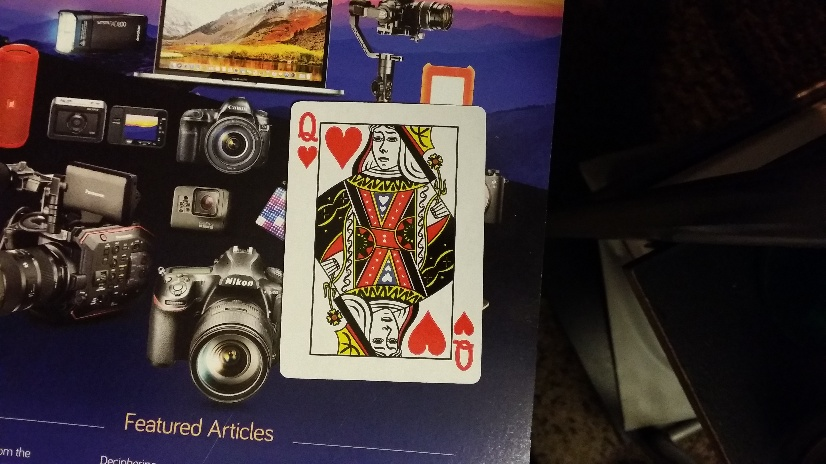Hq: (451, 309, 479, 370), (294, 109, 319, 168)
